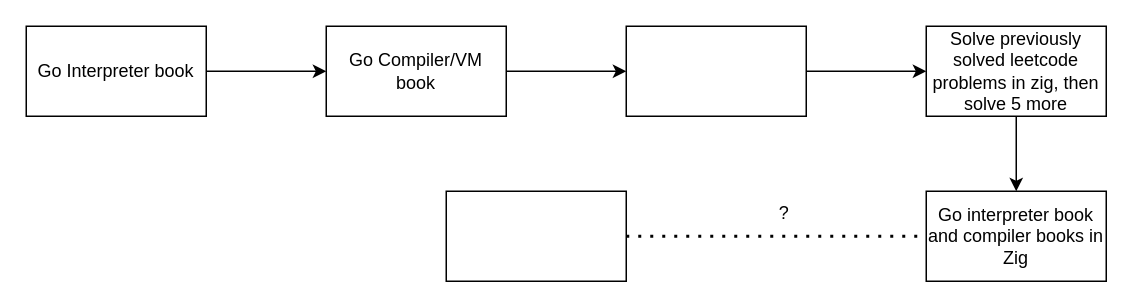
The diagram is 1133 pixels wide and 308 high, and some of its shapes have lost their labels. The shapes that lost their labels are listed below. From the top down, each one's box as (x1, y1, x2, y2) in pixels, then its label:
(625, 25, 806, 116): Zig basic Syntax
(445, 190, 626, 281): GBA emulator in Zig
